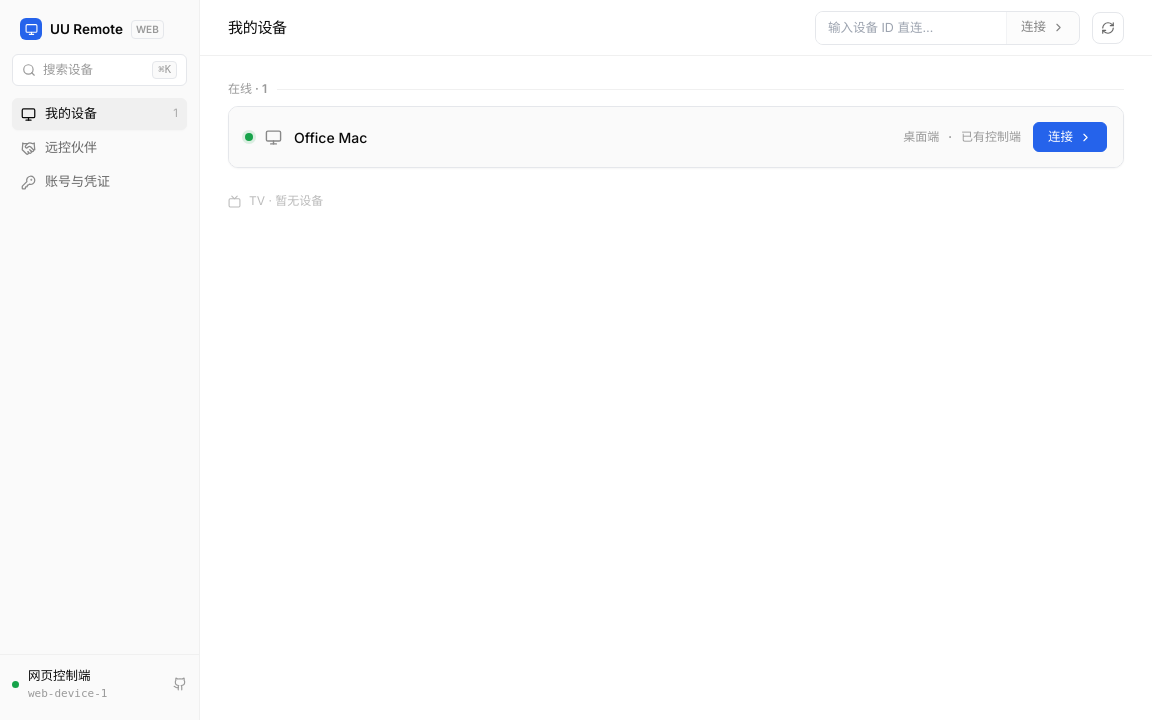
Test case: App account and devices › keeps sidebar navigation state neutral and aligned with the current route
Check: the heading "我的设备" is shown, box [228, 18, 287, 37]
Click the link "账号与凭证". click: coordinates (66, 181)
box: [21, 173, 110, 190]
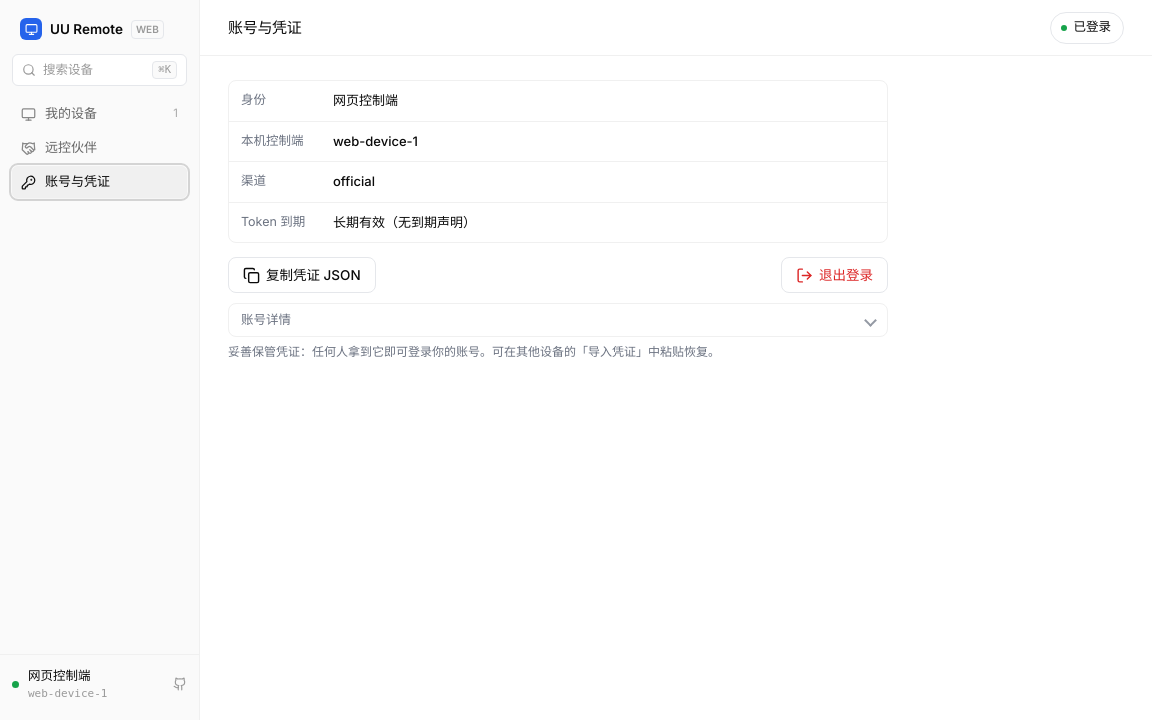
Check: the heading "账号与凭证" is shown, box [228, 18, 302, 37]
